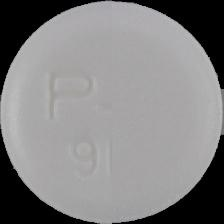52544-276: (0, 0, 224, 224)
